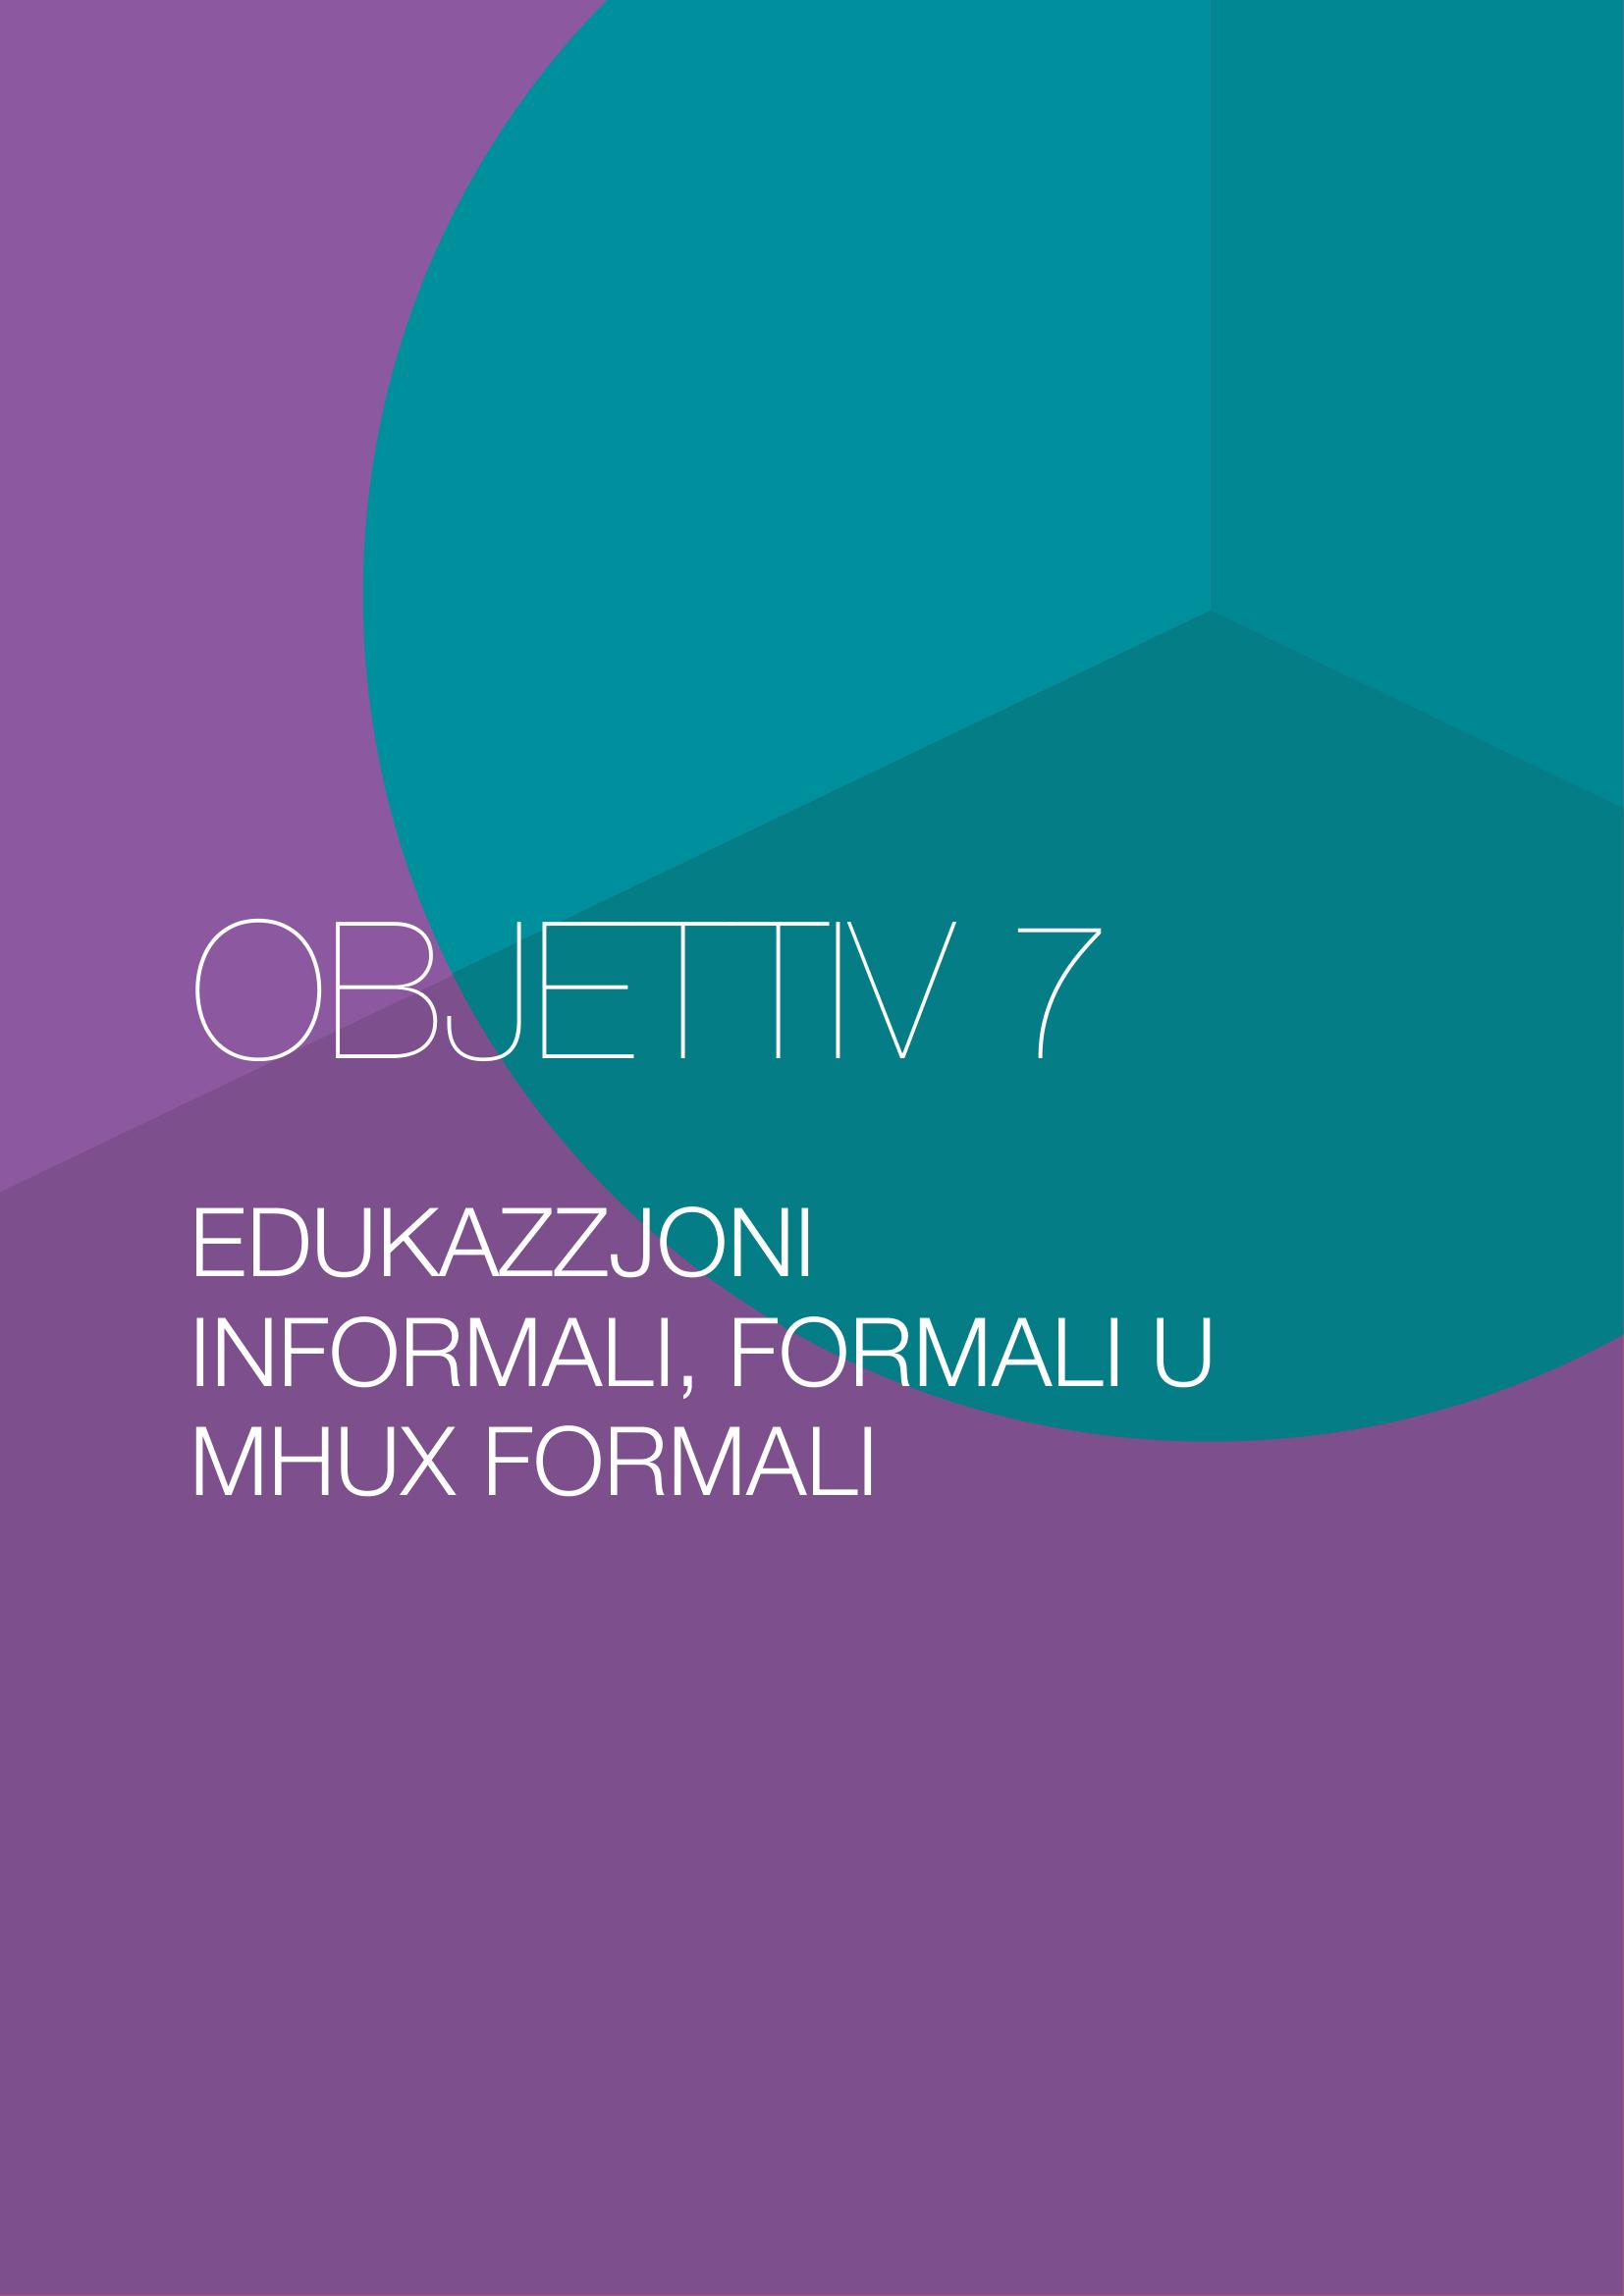text: (146, 892, 1241, 1534)
